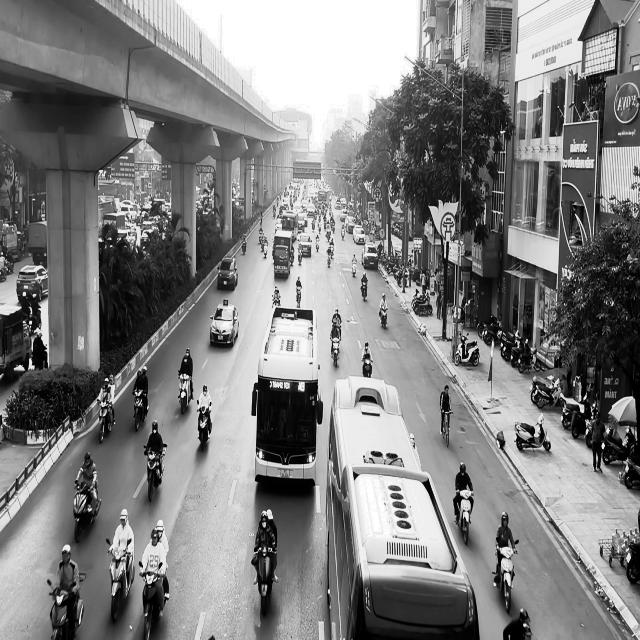bus: (251, 304, 323, 486)
car: (210, 299, 239, 347), (217, 256, 238, 290)
motorbike: (47, 572, 87, 640), (106, 538, 136, 622), (139, 560, 170, 640), (493, 539, 519, 613), (252, 546, 278, 616), (73, 481, 102, 543), (514, 412, 551, 452), (144, 443, 168, 502), (455, 488, 474, 545), (98, 398, 116, 443), (197, 402, 213, 448), (178, 371, 194, 414), (132, 389, 148, 432), (440, 407, 453, 447), (330, 335, 341, 367), (362, 352, 373, 378), (379, 307, 388, 329), (361, 280, 368, 301)
